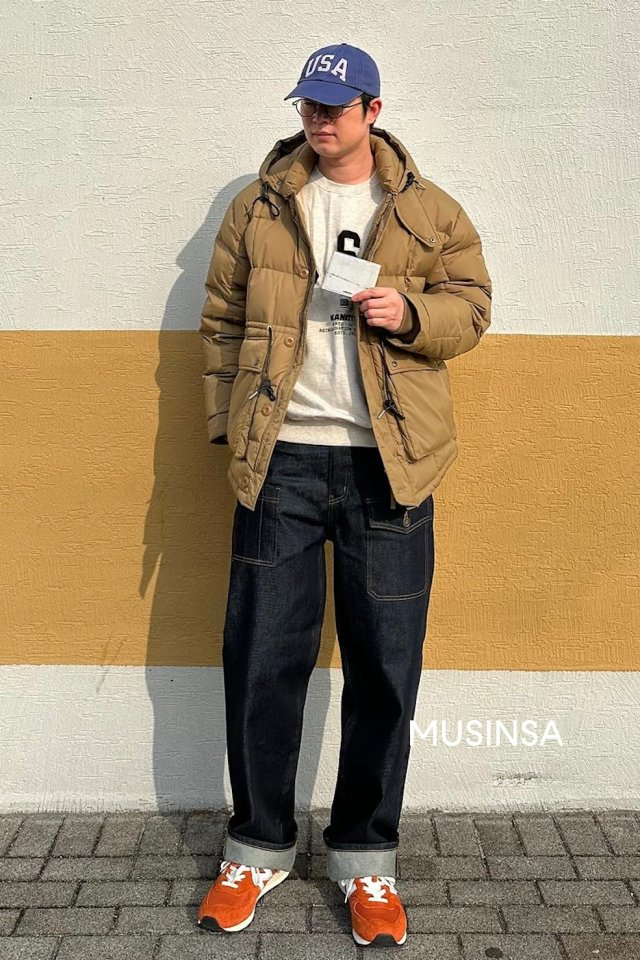Bubble jacket: (191, 124, 495, 507)
Coat: (281, 37, 386, 106)
Jeans: (215, 435, 440, 882)
Shoes: (181, 854, 419, 948)
